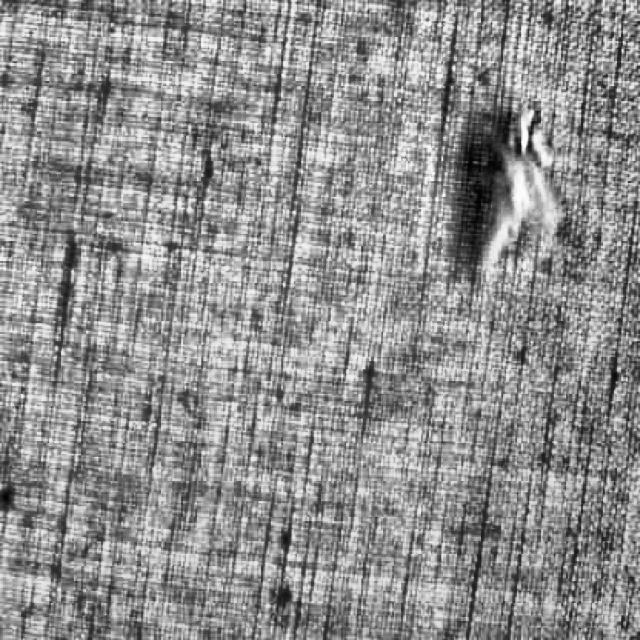objects: (454, 95, 583, 292)
